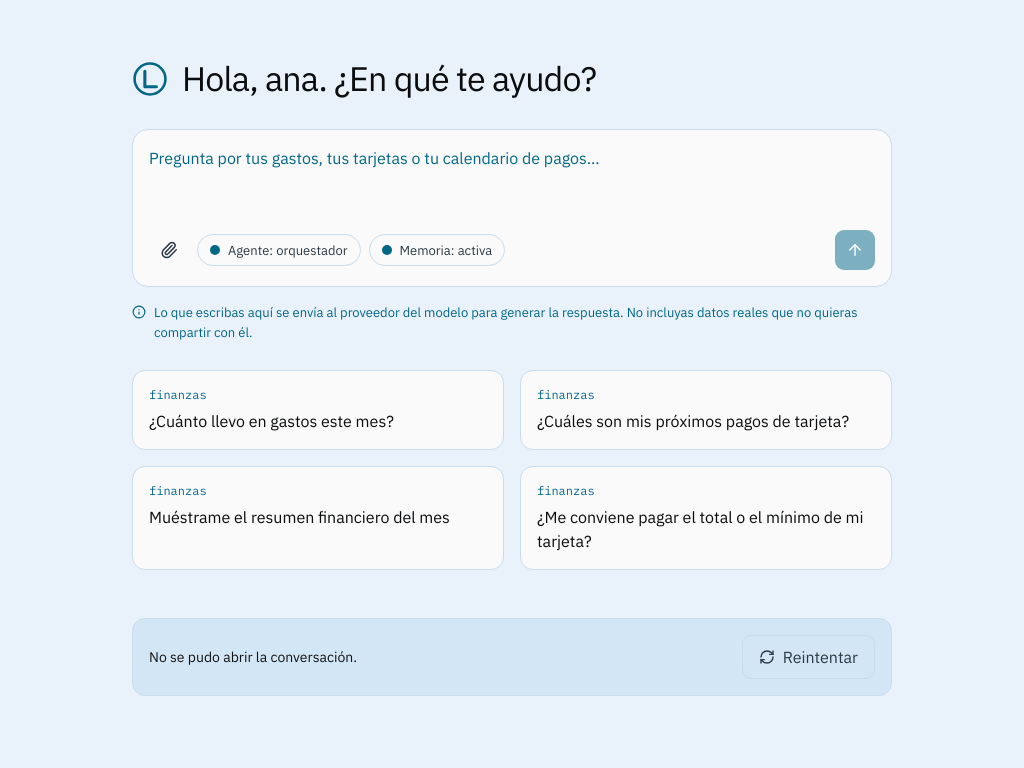
Test: ChatPage · abrir una conversación › si falla muestra el error y Reintentar vuelve a pedir la conversación
The image size is (1024, 768).
Expected: the message reads "No se pudo abrir la conversación.", [149,648,357,666]
Click the button "Reintentar".
click(808, 657)  # box [742,635,875,679]
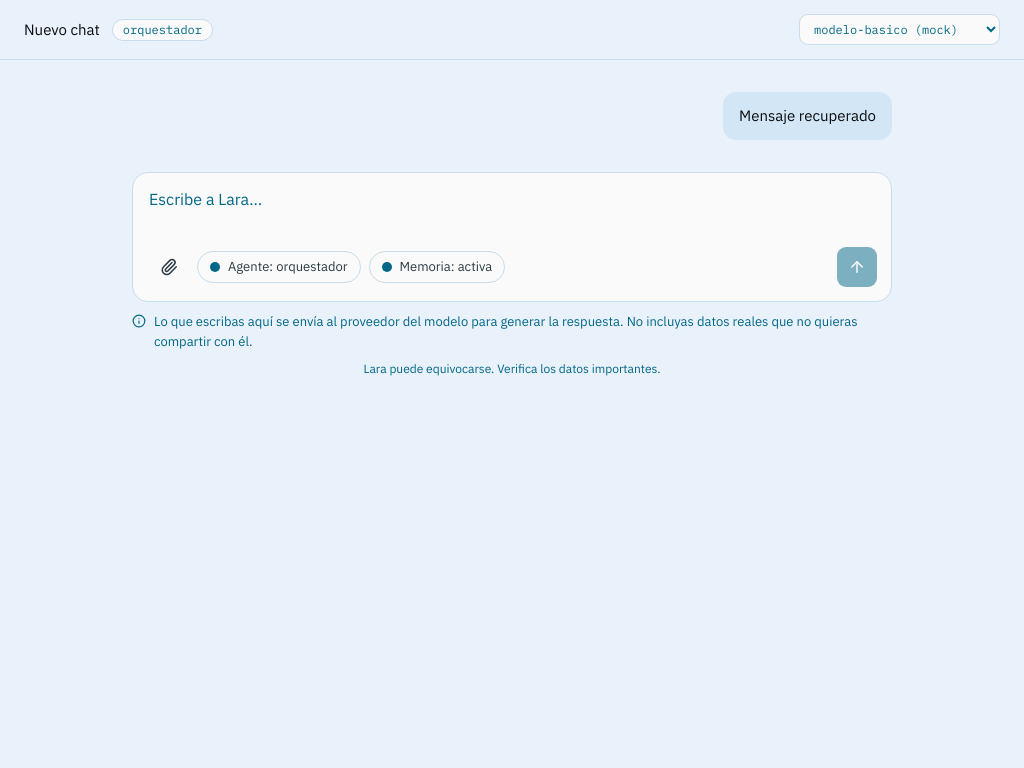
Now the text "Mensaje recuperado" is shown, box [739,104,876,128]
Now the message "No se pudo abrir la conversación." is gone
